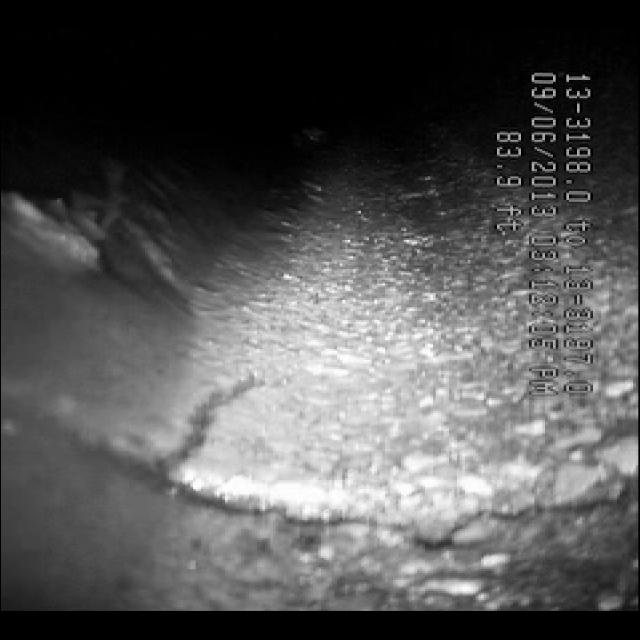Crack: (62, 347, 338, 533)
